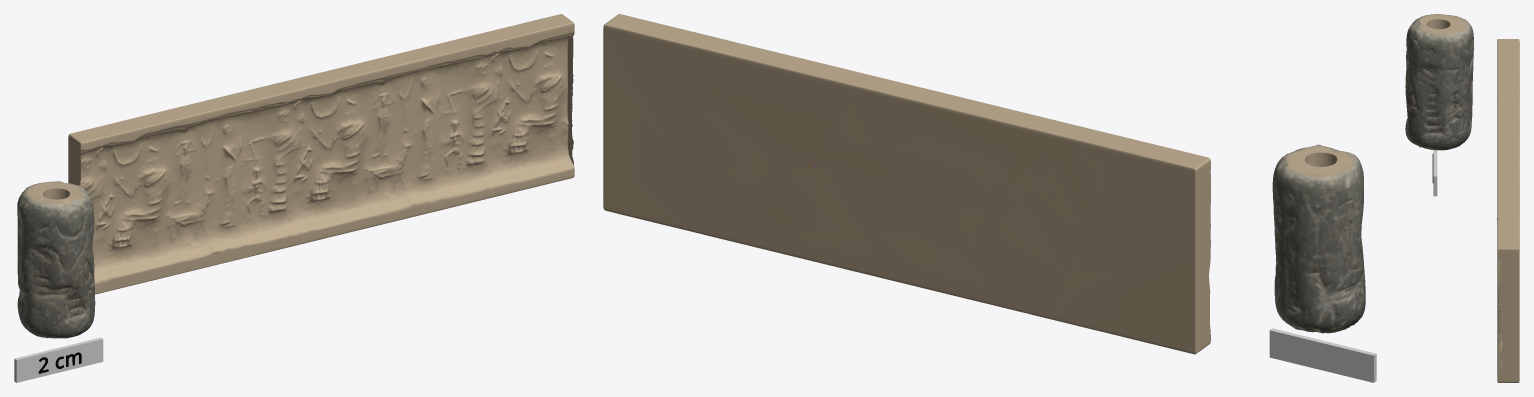
Rendered from preview.glb.
The picture shows the model from 3 angles, left to right: view 1: azimuth 30°, elevation 25°; view 2: azimuth 150°, elevation 25°; view 3: azimuth 270°, elevation 25°; orthographic projection. The views are drawn at different scales.
Parts seen in each view (by area): view 1: Object_3; view 2: Object_3; view 3: Object_3.
Boxes of the visible parts, left/top/right/bottom form: Object_3: left=14, top=14, right=574, bottom=382; Object_3: left=603, top=14, right=1376, bottom=382; Object_3: left=1405, top=14, right=1519, bottom=382.
Bounding box in the file's own units: 137 × 41.43 × 26.12.
